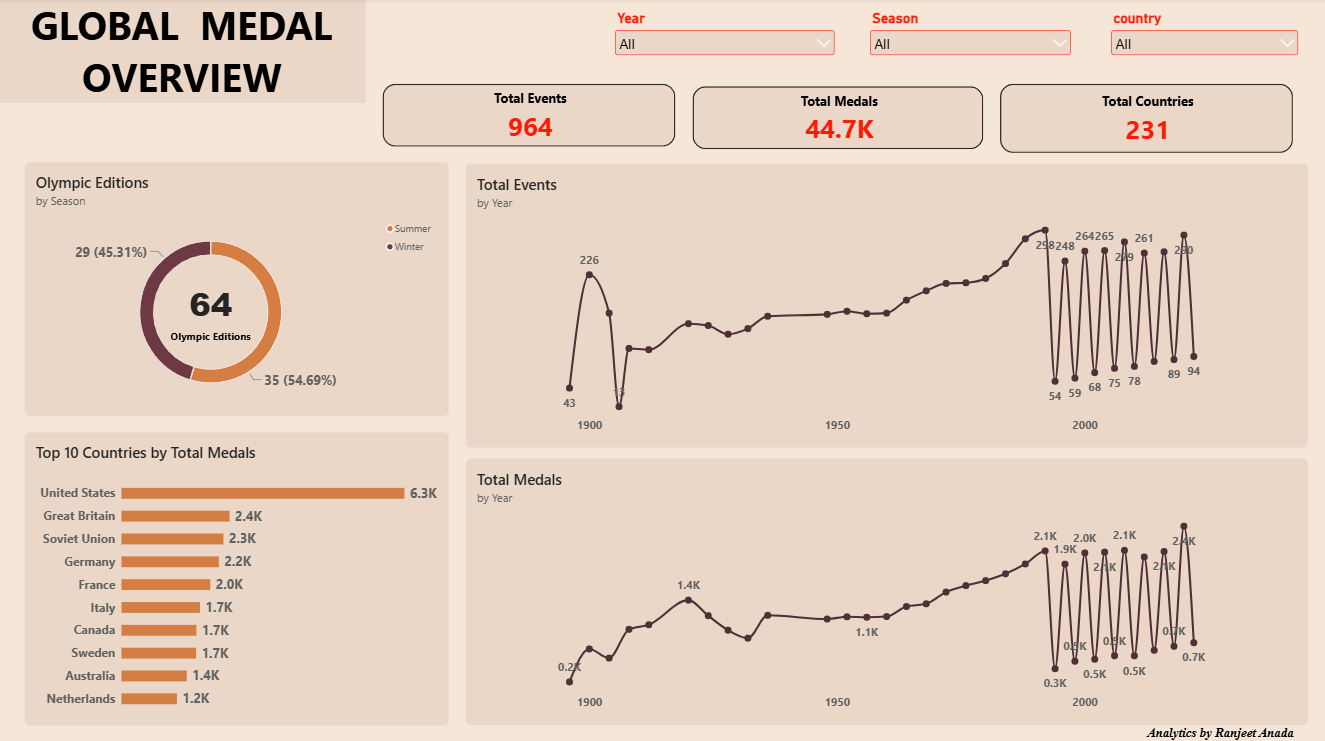

This screenshot's page, from the dashboard's own definition file:
{"tool":"powerbi","page":{"name":"Global Medal Overview 1","canvas":[1920,1080],"ordinal":0},"visuals":[{"type":"barChart","title":"Top 10 Countries by Total Medals","fields":{"Y":["measure table.Total Medals"],"Category":["Olympic_Athlete_Bio.country"]},"box":[38,628,615.3,425.3],"z":0},{"type":"donutChart","fields":{"Y":["measure table.Olympic Editions"],"Category":["Olympics_Games.Season"]},"box":[38,237.1,615.3,369.2],"z":1000},{"type":"lineChart","fields":{"Category":["Calendar.Year"],"Y":["measure table.Total Events"]},"box":[676.8,238.9,1219.7,412.6],"z":2000},{"type":"lineChart","fields":{"Category":["Calendar.Year"],"Y":["_Measures.Total Medals"]},"box":[676.8,666,1219.7,387.3],"z":3000},{"type":"cardVisual","fields":{"Data":["measure table.Total Medals"]},"box":[993.5,115.8,445.7,115.6],"z":4000},{"type":"cardVisual","fields":{"Data":["measure table.Total Events"]},"box":[544.7,112.2,448.8,115.8],"z":5000},{"type":"cardVisual","fields":{"Data":["measure table.Total Countries"]},"box":[1438.7,112.2,448,124],"z":6000},{"type":"slicer","fields":{"Values":["Calendar.Year"]},"box":[888.5,16.3,327.5,83.2],"z":7000},{"type":"slicer","fields":{"Values":["Olympics_Games.Season"]},"box":[1257.7,16.3,300.4,86.9],"z":8000},{"type":"slicer","fields":{"Values":["Olympics_Country.country"]},"box":[1607,16.3,280.5,86.9],"z":9000},{"type":"textbox","box":[0,0,532,152],"z":10000},{"type":"textbox","box":[1619.6,1053.2,300.4,25.3],"z":11000}]}

Visuals, with their boxes in screenshot pixels (x1, y1, x2, y2), scaled from the page's 1920x1080 canvas onto the 1325x741 screenshot:
"Top 10 Countries by Total Medals" barChart: <bbox>26, 431, 451, 723</bbox>
donutChart - measure table.Olympic Editions x Olympics_Games.Season: <bbox>26, 163, 451, 416</bbox>
lineChart - Calendar.Year x measure table.Total Events: <bbox>467, 164, 1309, 447</bbox>
lineChart - Calendar.Year x _Measures.Total Medals: <bbox>467, 457, 1309, 723</bbox>
cardVisual - measure table.Total Medals: <bbox>686, 79, 993, 159</bbox>
cardVisual - measure table.Total Events: <bbox>376, 77, 686, 156</bbox>
cardVisual - measure table.Total Countries: <bbox>993, 77, 1302, 162</bbox>
slicer - Calendar.Year: <bbox>613, 11, 839, 68</bbox>
slicer - Olympics_Games.Season: <bbox>868, 11, 1075, 71</bbox>
slicer - Olympics_Country.country: <bbox>1109, 11, 1303, 71</bbox>
textbox: <bbox>0, 0, 367, 104</bbox>
textbox: <bbox>1118, 723, 1324, 740</bbox>
